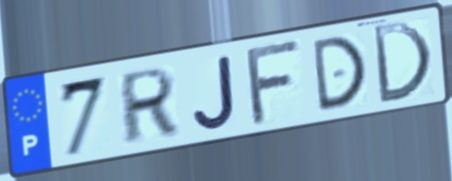7: (54, 75, 111, 159)
D: (369, 20, 436, 107), (309, 32, 369, 115)
F: (245, 37, 305, 130)
J: (191, 52, 239, 132)
R: (120, 63, 179, 148)
